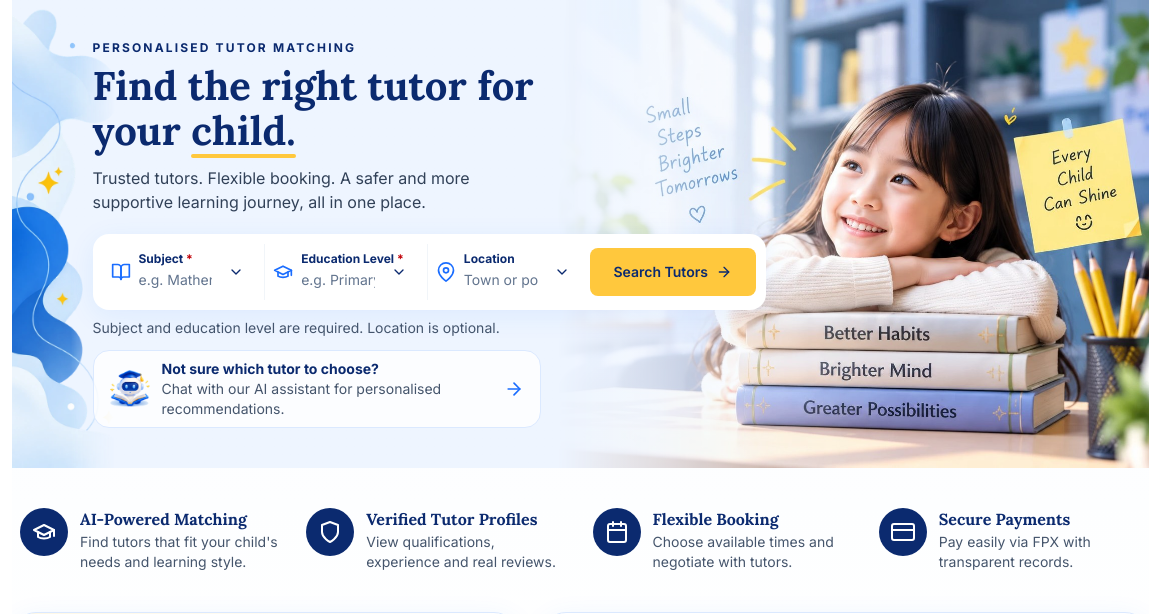
Scenario: landing page › search with a missing subject and level explains what is needed and stays on the page
Click the button "Search Tutors".
click(673, 272)  # box [590, 248, 756, 296]
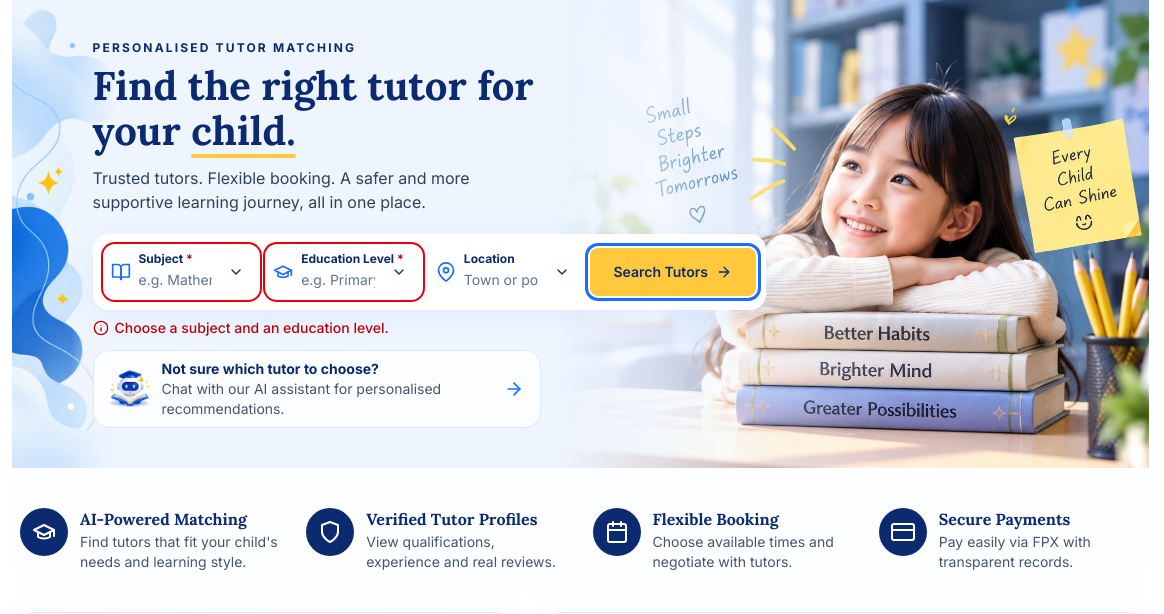
Result: the message reads "Choose a subject and an education level." at [114, 319, 389, 336]
